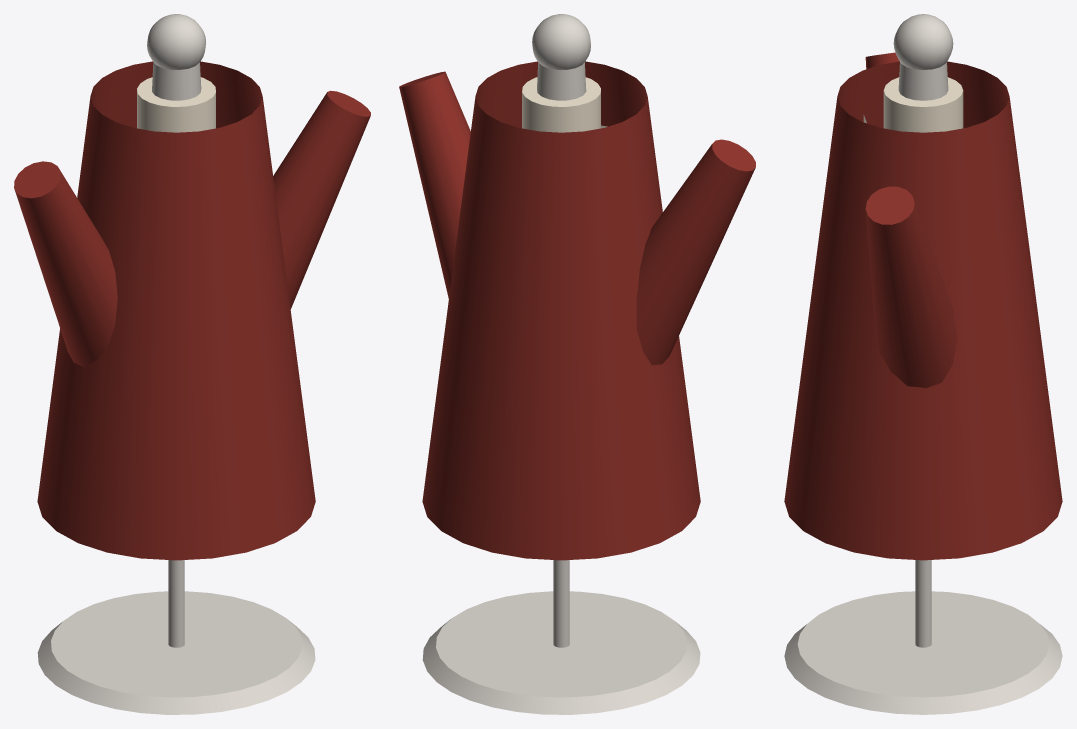
The model's file is ngu-than-tay-chen-proxy.glb.
3 views of the same model, side by side, from view 1: azimuth 30°, elevation 25°; view 2: azimuth 150°, elevation 25°; view 3: azimuth 270°, elevation 25° (orthographic).
Parts seen in each view (by area): view 1: outer_body, mannequin, right_sleeve, left_sleeve, standing_collar; view 2: outer_body, mannequin, right_sleeve, left_sleeve, standing_collar; view 3: outer_body, mannequin, left_sleeve, standing_collar.
Boxes of the visible parts, <box> form: outer_body: <box>37,61,315,560</box>; mannequin: <box>37,14,315,714</box>; right_sleeve: <box>14,161,117,367</box>; left_sleeve: <box>273,90,370,309</box>; standing_collar: <box>137,77,215,132</box>; outer_body: <box>422,61,700,560</box>; mannequin: <box>422,14,700,714</box>; right_sleeve: <box>636,139,755,365</box>; left_sleeve: <box>399,71,470,298</box>; standing_collar: <box>522,77,600,132</box>; outer_body: <box>784,61,1062,560</box>; mannequin: <box>784,14,1062,714</box>; left_sleeve: <box>865,186,957,388</box>; standing_collar: <box>883,77,963,132</box>.
Size of the model in its own units: 1.22 by 2.13 by 0.84.
